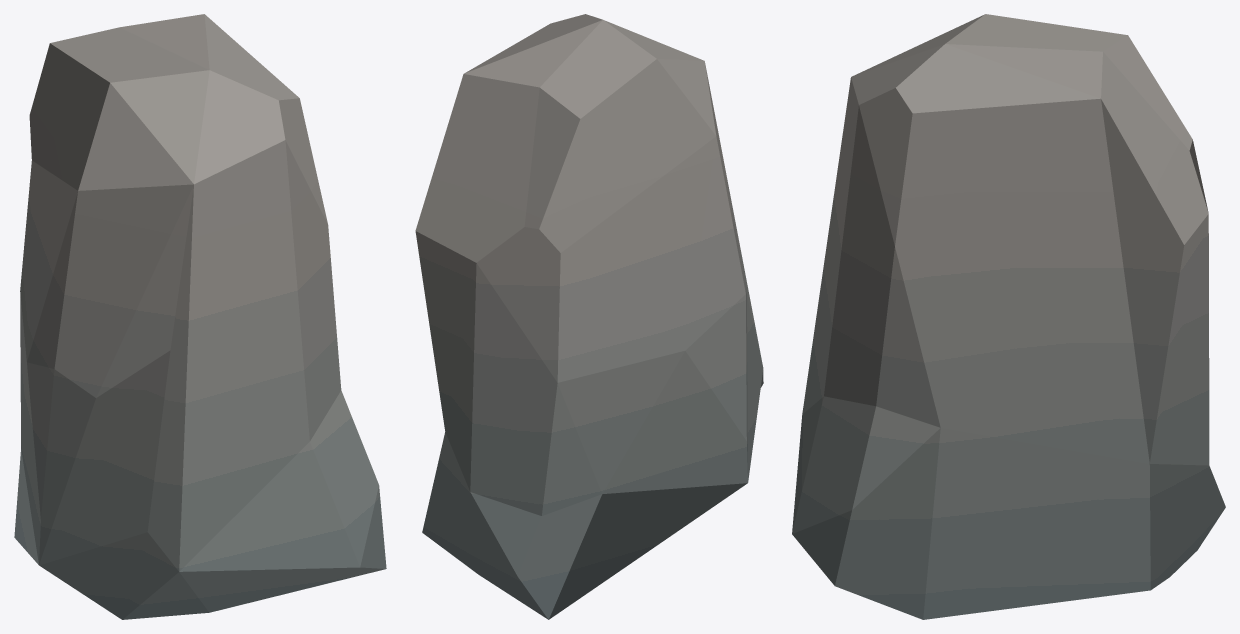
The model's file is Rock_004.fbx.
3 renders of one model, left to right at view 1: azimuth 30°, elevation 25°; view 2: azimuth 150°, elevation 25°; view 3: azimuth 270°, elevation 25°, orthographic. The views are drawn at different scales.
Parts seen in each view (by area): view 1: Rock.004; view 2: Rock.004; view 3: Rock.004.
Part boxes in pixels (<box>): Rock.004: <box>14,14,386,619</box>; Rock.004: <box>415,14,763,619</box>; Rock.004: <box>792,14,1225,619</box>.
Size of the model in its own units: 1.65 by 2.98 by 2.18.
